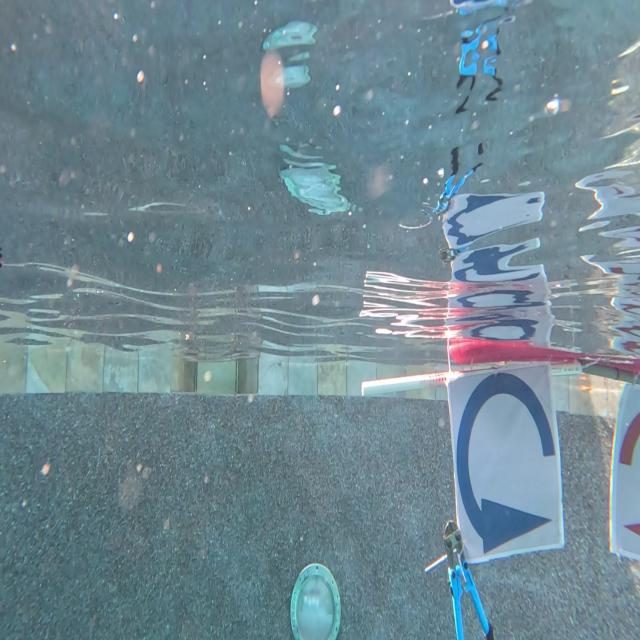blue_side: (444, 362, 566, 557)
red_side: (613, 378, 640, 557)
